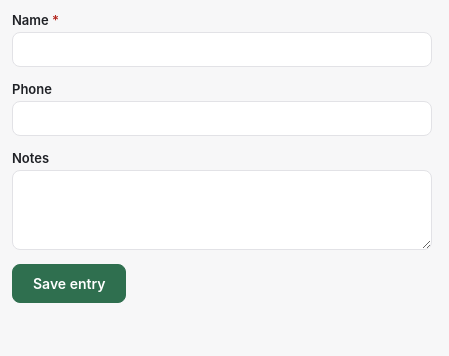
Test: NewEntryForm › submits the entered values with the template id and current user
Type "Alice" into the field labelled "Name *" at {"x": 222, "y": 50}, box 12,32 -> 432,67
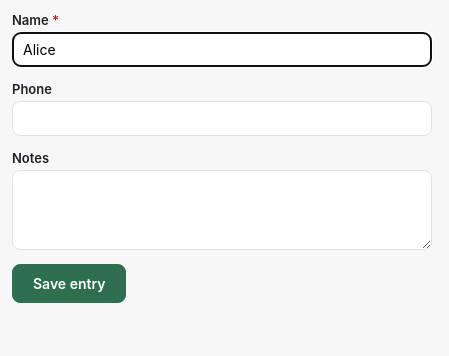
Click the button "Save entry" at {"x": 69, "y": 284}, box 12,264 -> 126,303
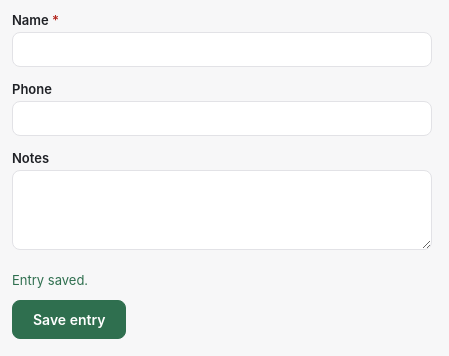
Check: the text "Entry saved." is shown, box 12,272 -> 88,288
